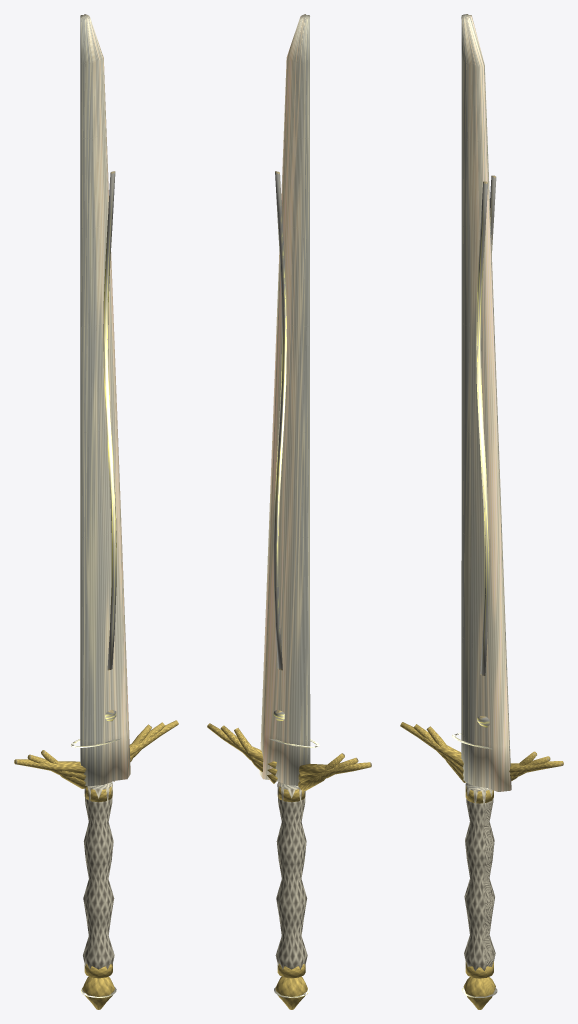
Rendered from sword_07_seraph_wing.glb.
3 renders of one model, left to right at view 1: azimuth 30°, elevation 25°; view 2: azimuth 150°, elevation 25°; view 3: azimuth 330°, elevation 25°, orthographic.
Visible parts, largest first — view 1: Blade_SeraphWingLongsword, Grip_SeraphSilkHilt, Plume_RadiantPlume, Feathers_SeraphWings, Pommel_SeraphOrb, Ferrule_SeraphGold; view 2: Blade_SeraphWingLongsword, Grip_SeraphSilkHilt, Plume_RadiantPlume, Feathers_SeraphWings, Pommel_SeraphOrb, Ferrule_SeraphGold; view 3: Blade_SeraphWingLongsword, Grip_SeraphSilkHilt, Plume_RadiantPlume, Feathers_SeraphWings, Pommel_SeraphOrb, Ferrule_SeraphGold.
Boxes of the visible parts, x1,y1,x2,y2 form: Blade_SeraphWingLongsword: (80,14,130,785); Grip_SeraphSilkHilt: (83,782,114,969); Plume_RadiantPlume: (103,171,116,670); Feathers_SeraphWings: (14,720,178,788); Pommel_SeraphOrb: (81,976,116,1009); Ferrule_SeraphGold: (84,786,112,978); Blade_SeraphWingLongsword: (259,14,310,785); Grip_SeraphSilkHilt: (275,782,307,969); Plume_RadiantPlume: (273,171,287,670); Feathers_SeraphWings: (207,723,371,790); Pommel_SeraphOrb: (274,976,309,1009); Ferrule_SeraphGold: (277,786,305,978); Blade_SeraphWingLongsword: (461,14,511,791); Grip_SeraphSilkHilt: (464,783,495,970); Plume_RadiantPlume: (476,175,496,675); Feathers_SeraphWings: (400,722,563,782); Pommel_SeraphOrb: (462,977,497,1009); Ferrule_SeraphGold: (465,786,493,978).
Bounding box in the file's own units: 0.4464 × 2.6 × 0.0855.
1 material, 1 textured.
